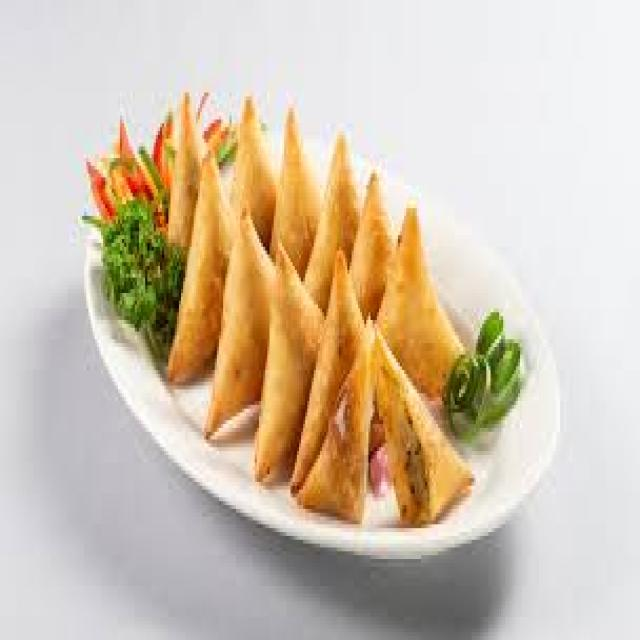SAMOSA: (374, 182, 485, 417), (371, 315, 481, 533), (199, 177, 277, 459), (246, 229, 329, 490), (288, 309, 378, 538), (163, 147, 244, 385)
